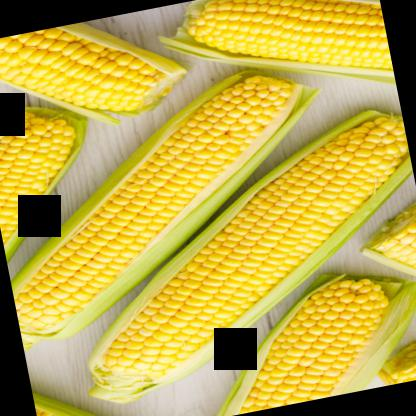corn: (45, 102, 415, 407), (0, 57, 358, 349), (190, 261, 415, 415), (161, 0, 394, 121), (0, 3, 191, 140), (0, 95, 112, 265)
